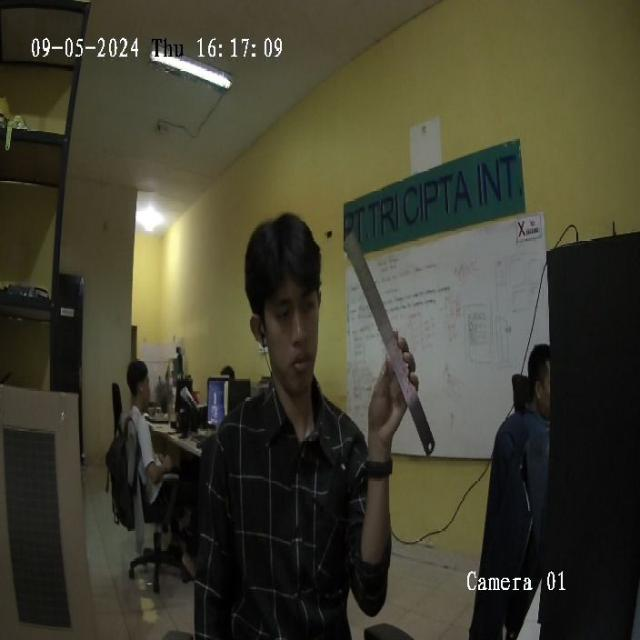Ruler: (345, 229, 434, 454)
